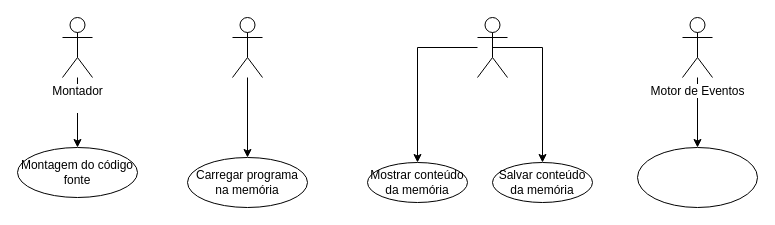
The diagram is 775 pixels wide and 225 high, and some of its shapes have lost their labels. The shapes that lost their labels are listed below. From the top down, each one's centre as x and y in pixels, then its label:
At (247,47): "Loader".
At (492,47): "Dumper".
At (697,177): "Extração e Execução de instruções da memória".
